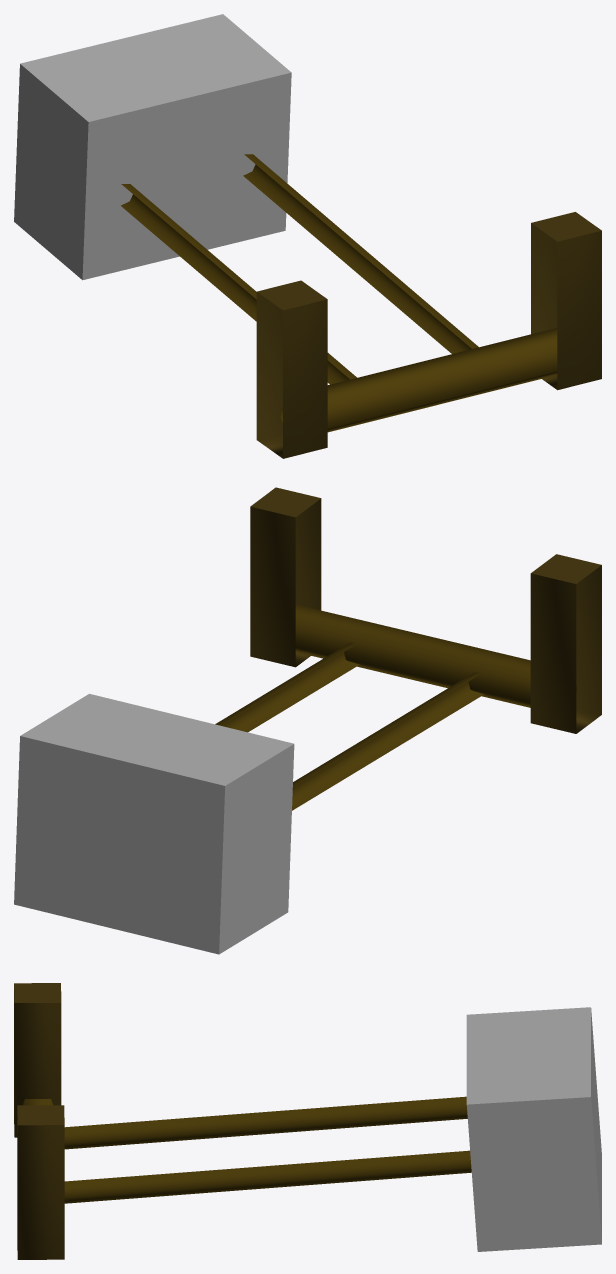
Rendered from Bijl.fbx.
3 renders of one model, top to bottom at view 1: azimuth 30°, elevation 25°; view 2: azimuth 150°, elevation 25°; view 3: azimuth 270°, elevation 25°, orthographic. The views are drawn at different scales.
Visible parts, largest first — view 1: pCube14, pCylinder6, pCube12; view 2: pCube14, pCylinder6, pCube12; view 3: pCube14, pCube12, pCylinder6.
Boxes of the visible parts, bbox=[...] form: pCube14: bbox=[14, 14, 291, 280]; pCylinder6: bbox=[256, 212, 601, 458]; pCube12: bbox=[121, 154, 478, 384]; pCube14: bbox=[14, 693, 294, 954]; pCylinder6: bbox=[250, 487, 601, 733]; pCube12: bbox=[215, 642, 483, 810]; pCube14: bbox=[466, 1007, 601, 1251]; pCube12: bbox=[64, 1096, 471, 1203]; pCylinder6: bbox=[14, 983, 64, 1259].
Size of the model in its own units: 2.27 by 1.15 by 3.96.
